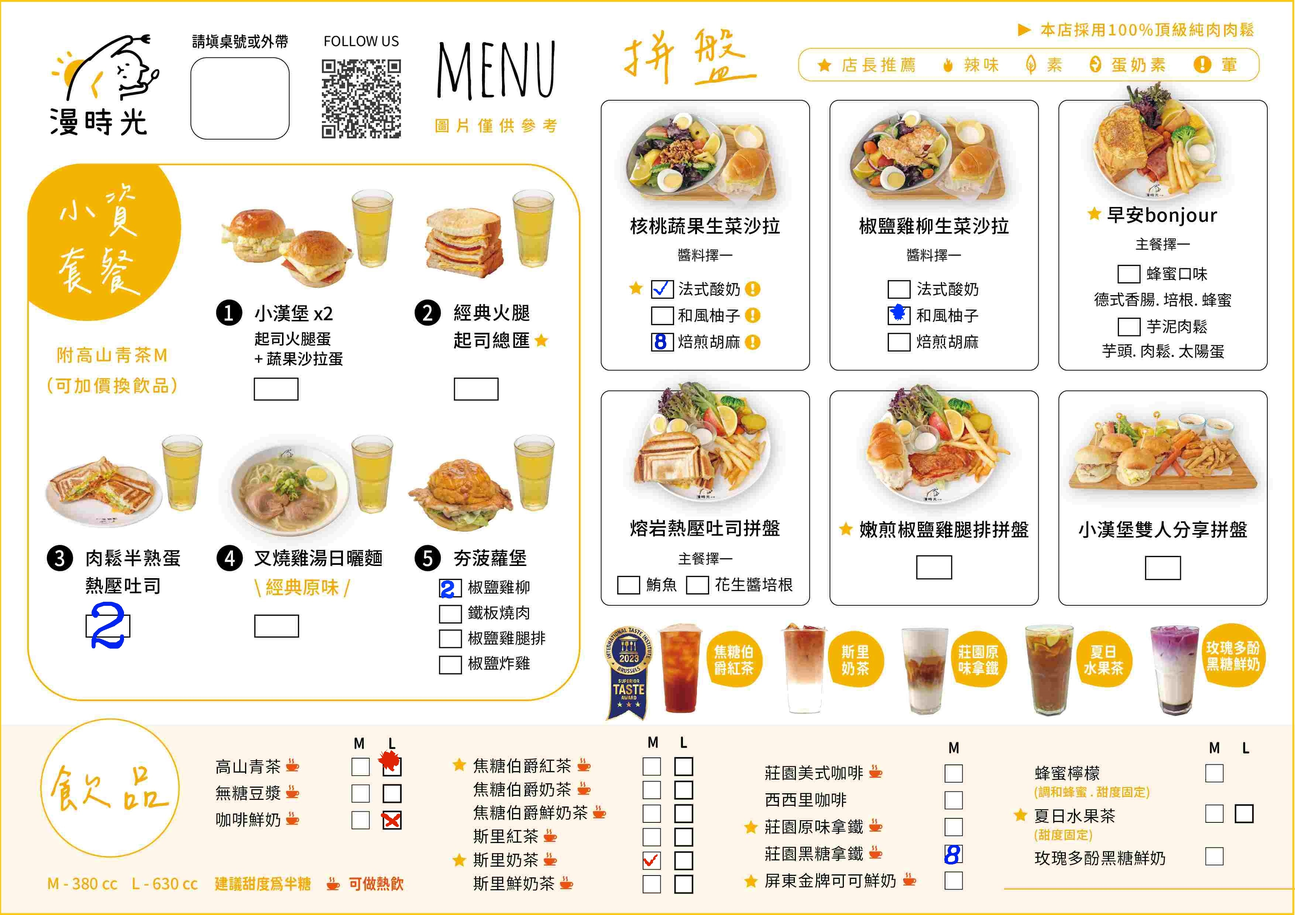marked_circle: (889, 306, 911, 324), (384, 756, 401, 774)
marked_number_2: (86, 616, 130, 635), (439, 581, 460, 595)
marked_number_8: (651, 331, 673, 349), (945, 844, 962, 862)
marked_tick: (652, 280, 673, 297), (642, 852, 659, 869)
marked_x: (382, 811, 399, 828)
